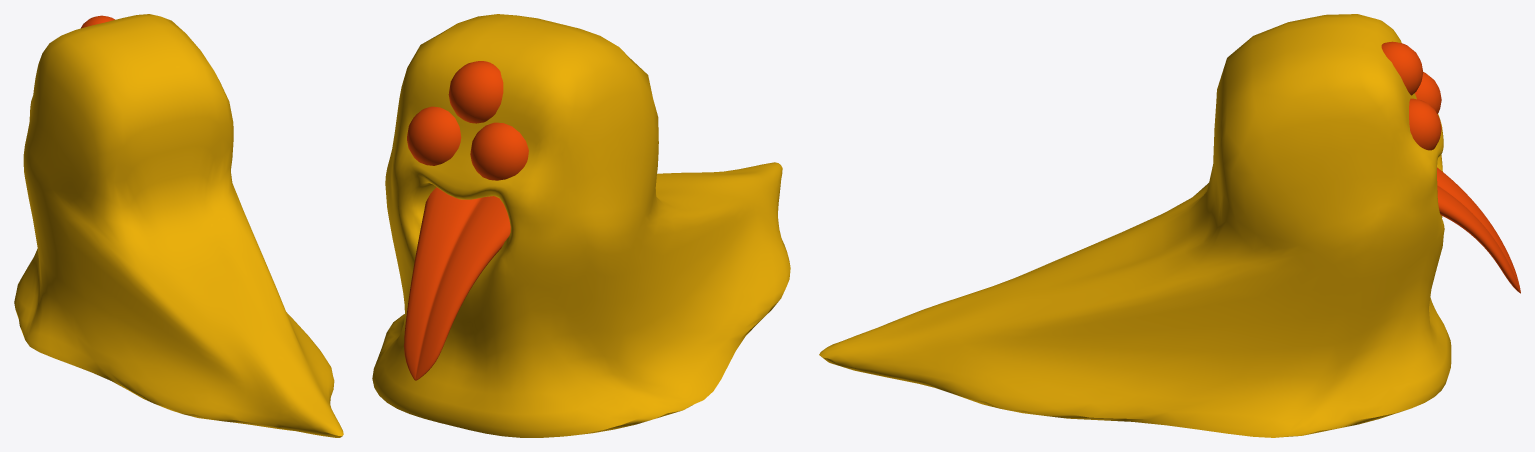
The model's file is GR_monster11.fbx.
The picture shows the model from 3 angles, left to right: view 1: azimuth 30°, elevation 25°; view 2: azimuth 150°, elevation 25°; view 3: azimuth 270°, elevation 25°; orthographic projection. The views are drawn at different scales.
Parts seen in each view (by area): view 1: tong; view 2: tong; view 3: tong.
Part boxes in pixels (<box>): tong: <box>14,14,343,437</box>; tong: <box>372,14,790,437</box>; tong: <box>819,14,1520,437</box>.
Size of the model in its own units: 101 by 111 by 210.
